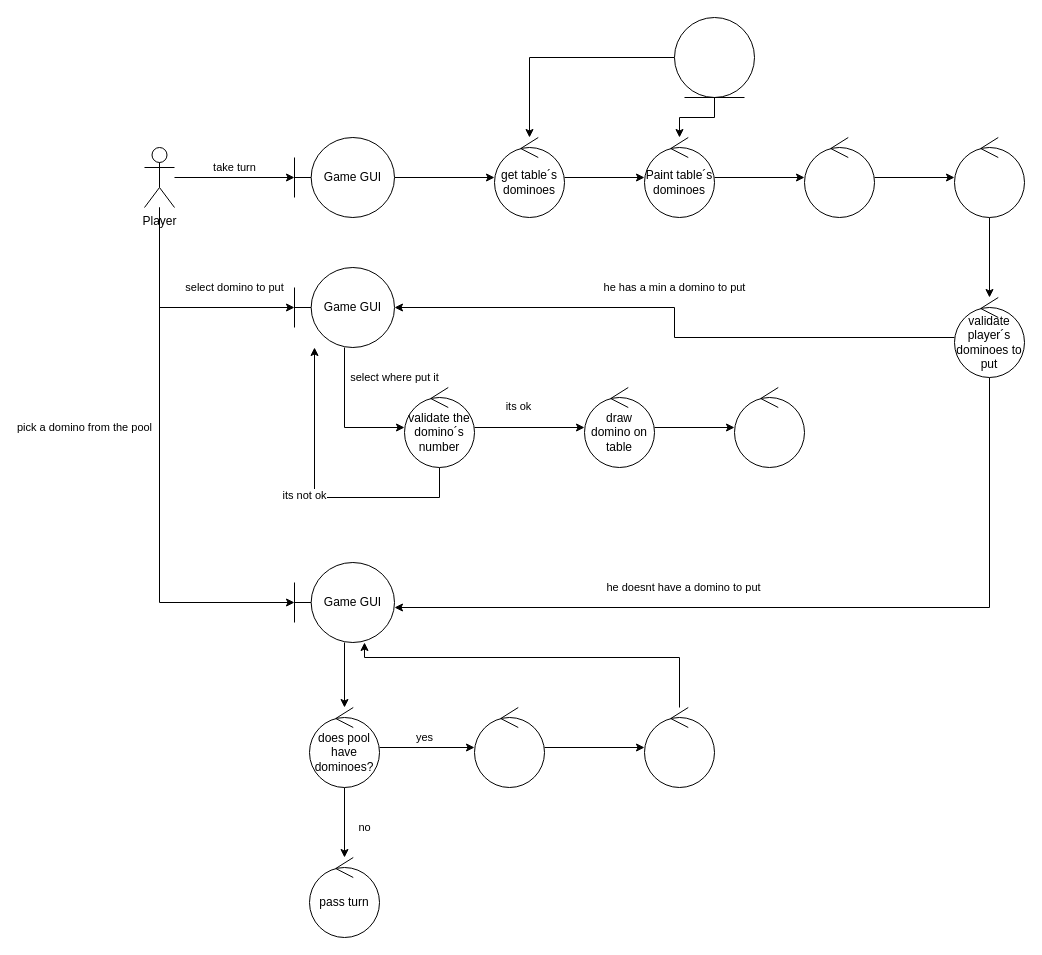
This 1042x955 diagram has some shape labels left out. The centre of each missing label's shape, as x and y in pixels:
DominoTale: point 714,57
draw new domino: point 679,747
end turn: point 769,427
get other player´s amount dominoes: point 839,177
give one domino to the player: point 509,747
paint other player´s dominoes: point 989,177
